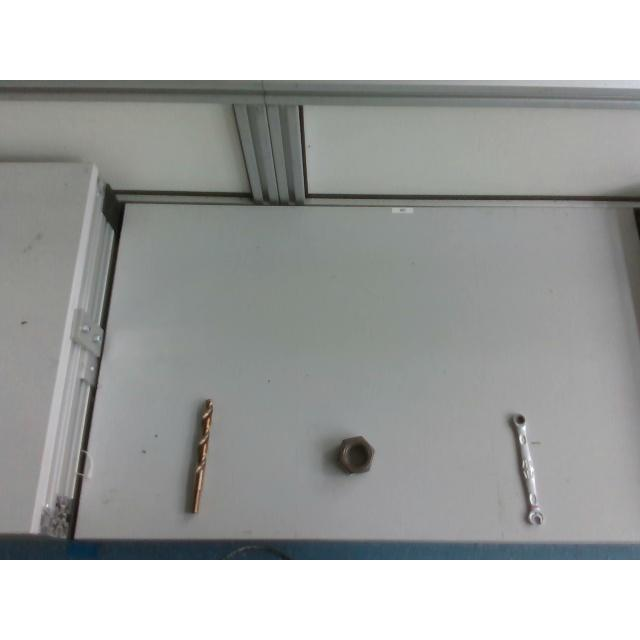Drill: (188, 398, 212, 514)
M30: (337, 436, 375, 476)
Wrench: (508, 414, 544, 526)
